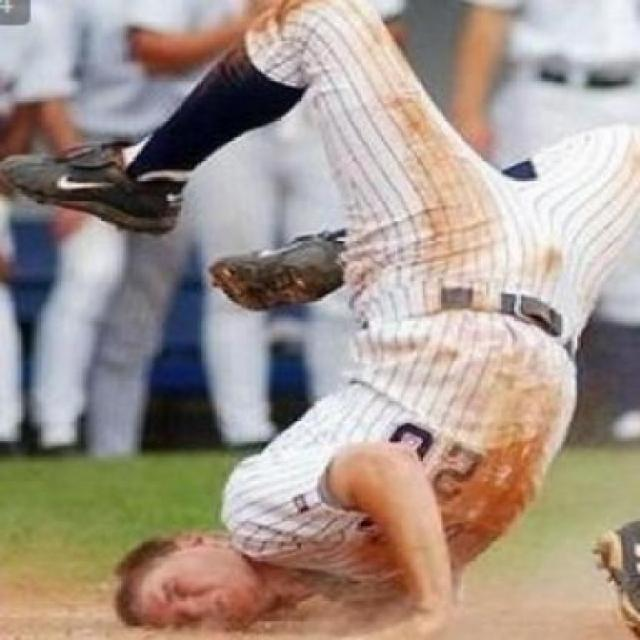fall: (8, 12, 617, 640)
